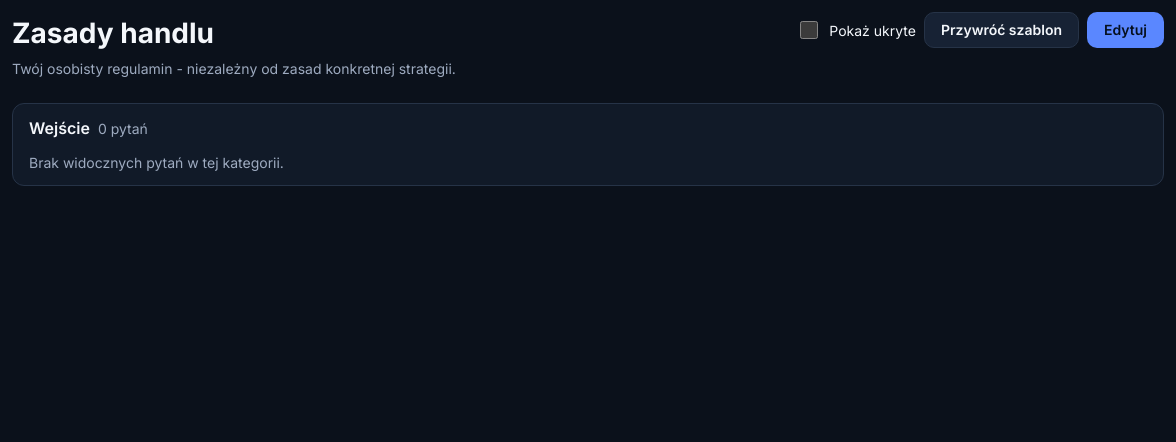
Scenario: ZasadyHandluPage › ukryte pytanie znika w odczycie bez 'Pokaż ukryte', ale JEST widoczne w trybie edycji
The image size is (1176, 442).
Check: the text "Wejście" is shown, box left=29, top=116, right=90, bottom=140
Check: the text "Pytanie ukryte" is not shown
Click the checkbox labelled "Pokaż ukryte" at (809, 30), box left=800, top=21, right=818, bottom=39
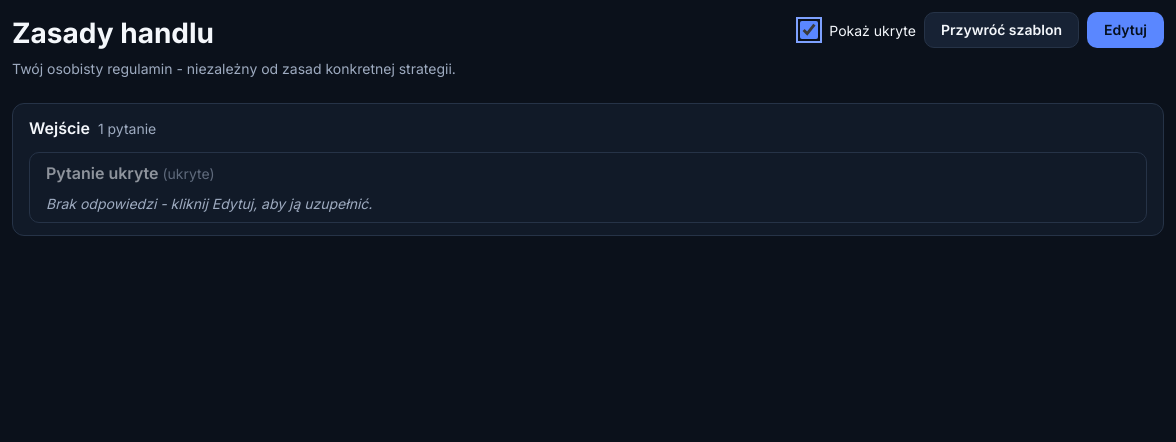
Check: the text "Pytanie ukryte" is shown, box left=46, top=163, right=158, bottom=183
Click the checkbox labelled "Pokaż ukryte" at (809, 30), box left=800, top=21, right=818, bottom=39
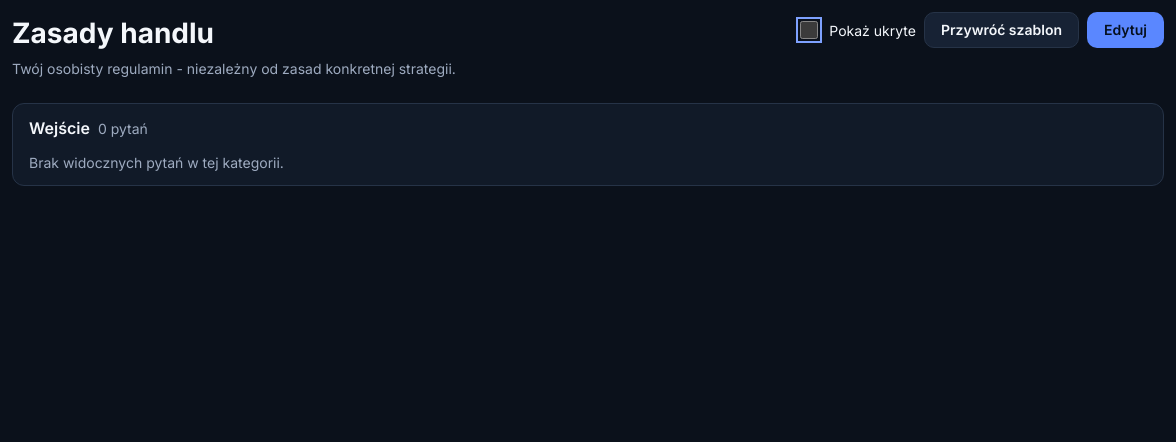
Check: the text "Pytanie ukryte" is gone
Click the button "Edytuj" at (1126, 30), box left=1087, top=12, right=1164, bottom=48
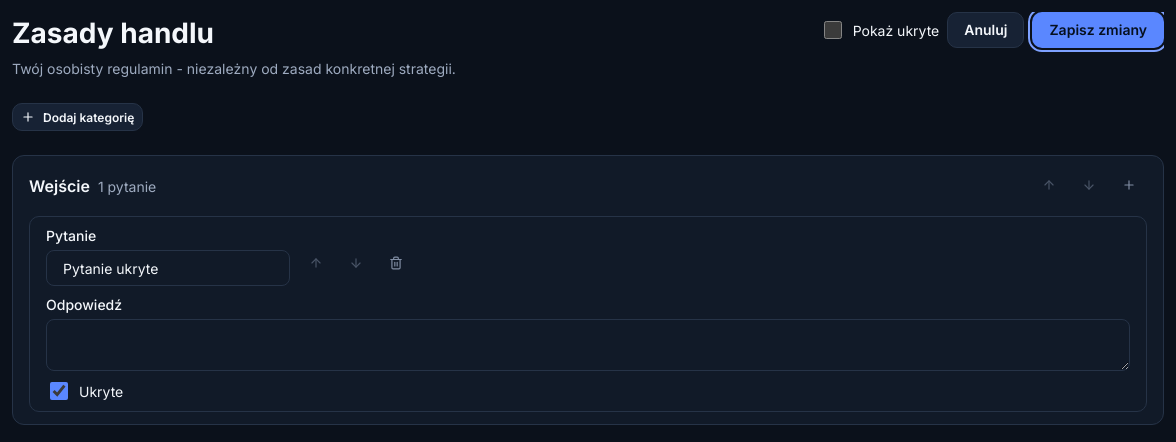
Check: the field showing "Pytanie ukryte" is shown, box left=46, top=250, right=290, bottom=286
